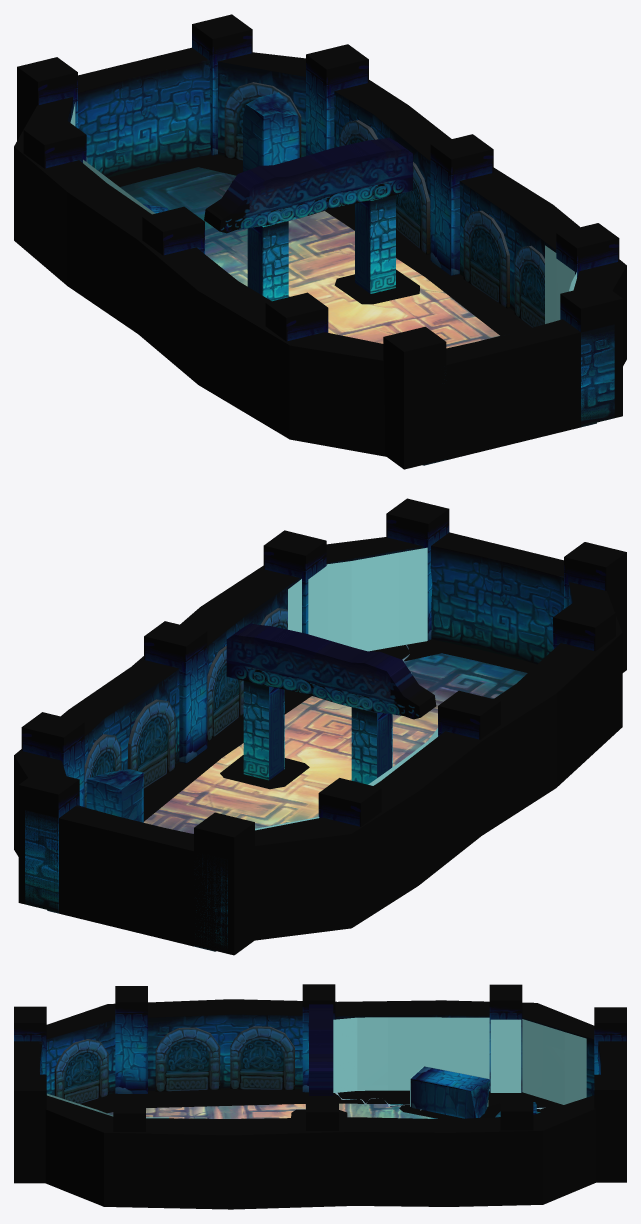
File: Dungeon_051_Road_002_Item.fbx
3 views of the same model, one above another, from view 1: azimuth 30°, elevation 25°; view 2: azimuth 150°, elevation 25°; view 3: azimuth 270°, elevation 25° (orthographic). The views are drawn at different scales.
Parts seen in each view (by area): view 1: Dun_051_Road_002_Wall, Dun_051_Road_002_Pillar, Dun_051_Door_002 (×2), Dun_051_Obj03_Gate, Dun_051_Road_002_Ground, Dun_051_Road_002_Wallobject, Dun_051_Road_002_shadow, Dun_051_Obj01_Pillar, Dun_051_Road_002_GroundWater_Terikaeshi, Dun_051_Obj03_Gate_Shadow, Dun_011_Door_002_shadow; view 2: Dun_051_Road_002_Wall, Dun_051_Road_002_Pillar, Dun_051_Door_002 (×2), Dun_051_Obj03_Gate, Dun_051_Road_002_Ground, Dun_051_Road_002_GroundWater_Terikaeshi, Dun_051_Road_002_Wallobject, Dun_051_Road_002_shadow, Dun_051_Obj01_Pillar, Dun_051_Obj03_Gate_Shadow, Dun_011_Door_002_shadow; view 3: Dun_051_Road_002_Wall, Dun_051_Road_002_Pillar, Dun_051_Road_002_GroundWater_Terikaeshi, Dun_051_Road_002_Wallobject, Dun_051_Road_002_shadow, Dun_051_Road_002_Ground, Dun_051_Obj03_Gate, Dun_051_Door_002 (×2).
Part boxes in pixels (box(x1,y1,x2,y2)): Dun_051_Road_002_Wall: box(14, 52, 626, 456); Dun_051_Road_002_Pillar: box(17, 14, 622, 469); Dun_051_Door_002 (×2): box(78, 47, 580, 459); Dun_051_Obj03_Gate: box(204, 137, 412, 301); Dun_051_Road_002_Ground: box(120, 167, 596, 465); Dun_051_Road_002_Wallobject: box(224, 82, 544, 327); Dun_051_Road_002_shadow: box(177, 154, 531, 335); Dun_051_Obj01_Pillar: box(243, 92, 299, 171); Dun_051_Road_002_GroundWater_Terikaeshi: box(70, 102, 576, 323); Dun_051_Obj03_Gate_Shadow: box(288, 269, 419, 304); Dun_011_Door_002_shadow: box(108, 161, 197, 186); Dun_051_Road_002_Wall: box(14, 537, 622, 953); Dun_051_Road_002_Pillar: box(18, 498, 626, 955); Dun_051_Door_002 (×2): box(59, 532, 563, 946); Dun_051_Obj03_Gate: box(226, 623, 436, 784); Dun_051_Road_002_Ground: box(47, 653, 527, 951); Dun_051_Road_002_GroundWater_Terikaeshi: box(255, 547, 437, 830); Dun_051_Road_002_Wallobject: box(84, 608, 287, 807); Dun_051_Road_002_shadow: box(143, 639, 536, 821); Dun_051_Obj01_Pillar: box(86, 769, 143, 822); Dun_051_Obj03_Gate_Shadow: box(220, 755, 309, 789); Dun_011_Door_002_shadow: box(442, 646, 532, 672); Dun_051_Road_002_Wall: box(45, 999, 596, 1209); Dun_051_Road_002_Pillar: box(14, 984, 626, 1183); Dun_051_Road_002_GroundWater_Terikaeshi: box(47, 1017, 586, 1118); Dun_051_Road_002_Wallobject: box(54, 1026, 294, 1103); Dun_051_Road_002_shadow: box(80, 1088, 562, 1119); Dun_051_Road_002_Ground: box(107, 1103, 540, 1118); Dun_051_Obj03_Gate: box(309, 1004, 333, 1095); Dun_051_Door_002 (×2): box(14, 1041, 626, 1074).
Size of what is drawn, in the model's own units: 7.89 by 3.02 by 15.
